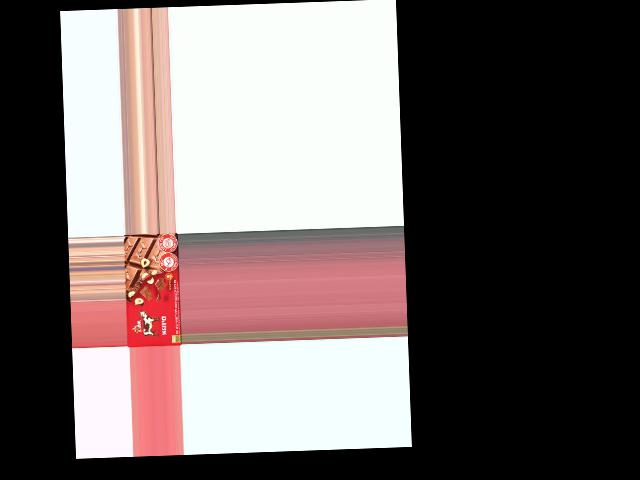chocolate: (124, 233, 180, 347)
